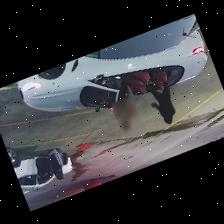person: (111, 82, 136, 130), (151, 86, 174, 123)
